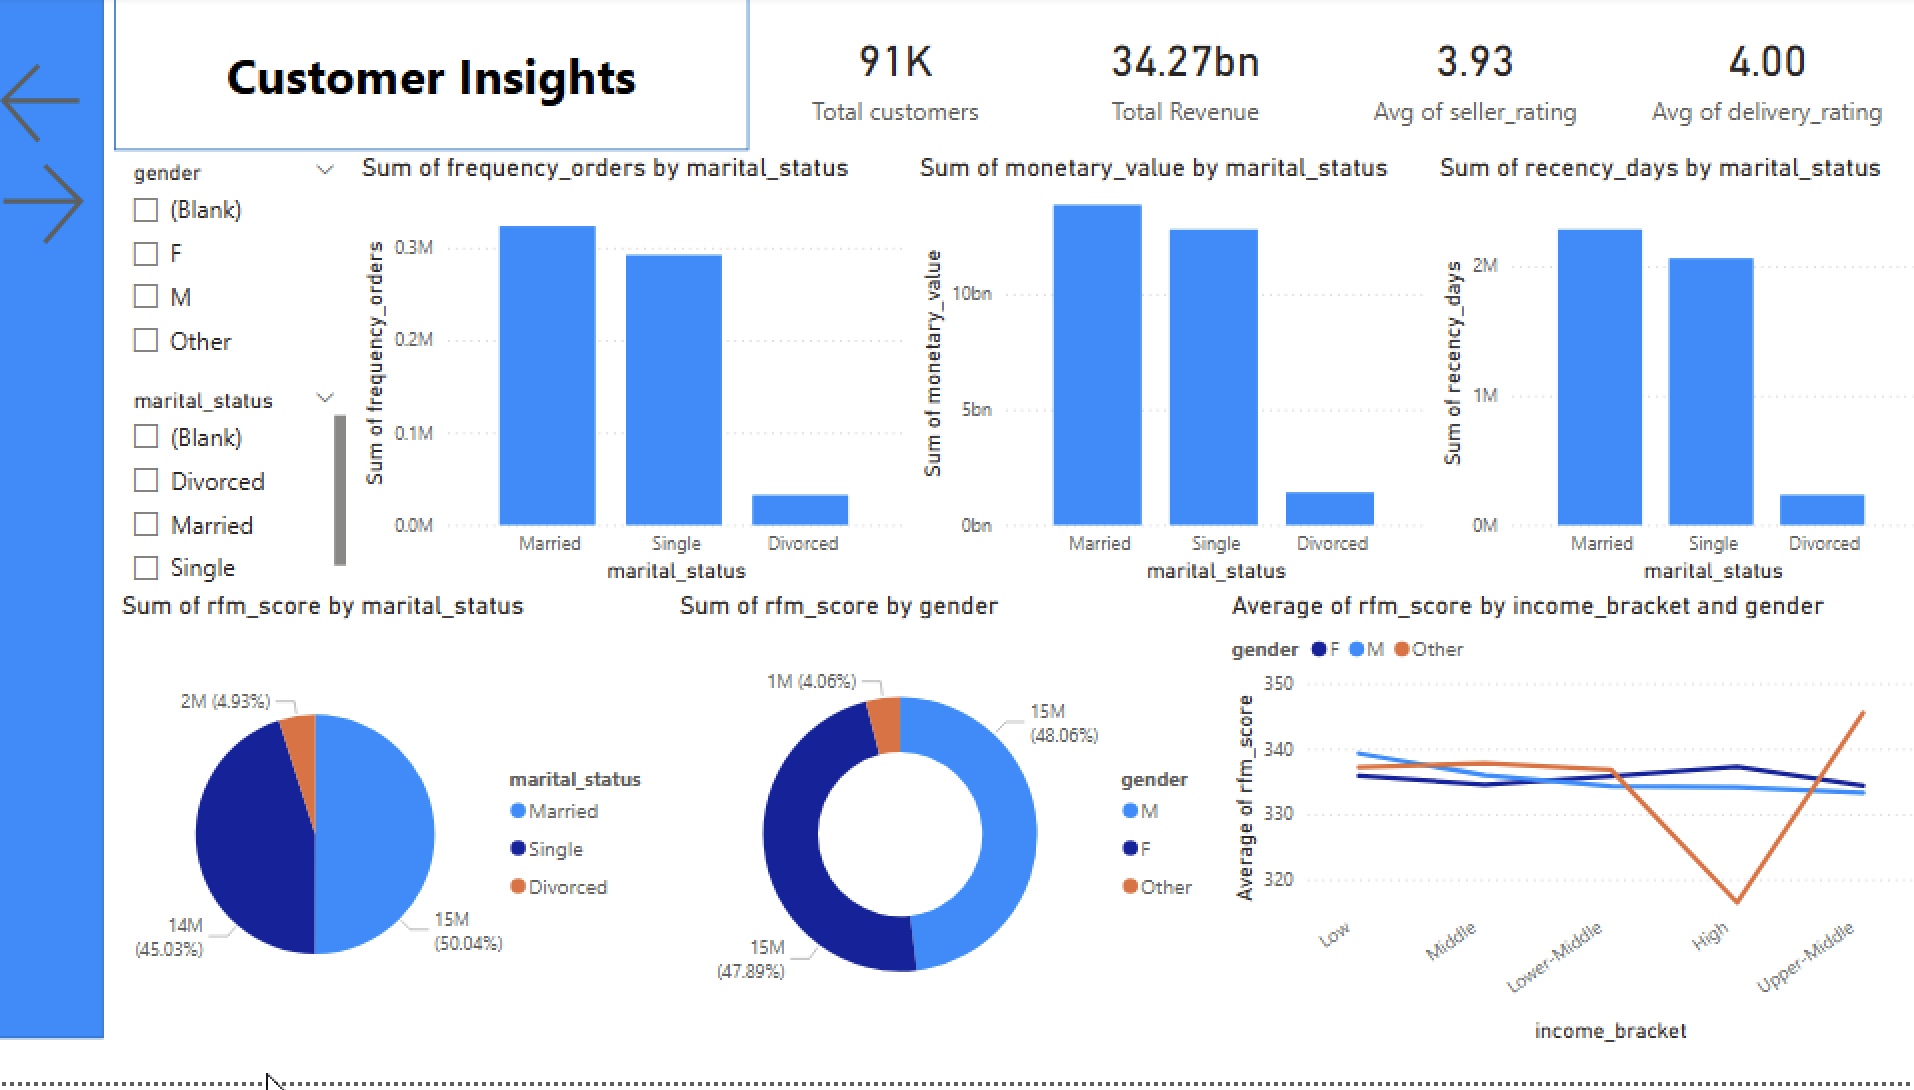

The page's visual inventory and layout, read from the dashboard file:
{"tool":"powerbi","page":{"name":"Customers","canvas":[1280,720],"ordinal":0},"visuals":[{"type":"shape","title":"Customer Insights","box":[81.1,0,421.1,102.6],"z":0},{"type":"actionButton","box":[0.1,104.9,74.1,66.4],"z":0,"group":"g1"},{"type":"shape","box":[0,0,74.1,691.5],"z":1000},{"type":"actionButton","box":[0.2,38.1,73.8,65.4],"z":1000,"group":"g1"},{"type":"card","fields":{"Values":["Measuress.Total customers"]},"box":[502.2,0,192.9,102.6],"z":2000},{"type":"group","id":"g1","title":"Group 1","box":[0.1,38.1,74.1,133.2],"z":3000},{"type":"card","fields":{"Values":["Measuress.Total Revenue"]},"box":[695.1,0,192.9,102.6],"z":4000},{"type":"card","fields":{"Values":["Avg(FACT_ORDERS.seller_rating)"]},"box":[888,0,192.9,102.6],"z":5000},{"type":"card","fields":{"Values":["Avg(FACT_ORDERS.delivery_rating)"]},"box":[1081,0,192.9,102.6],"z":6000},{"type":"slicer","fields":{"Values":["DIM_CUSTOMER.marital_status"]},"box":[81.1,254.4,159,139.9],"z":7000},{"type":"slicer","fields":{"Values":["DIM_CUSTOMER.gender"]},"box":[81.1,103.4,159,151.1],"z":8000},{"type":"columnChart","fields":{"Y":["Sum(FACT_CUSTOMER_RFM.frequency_orders)"],"Category":["DIM_CUSTOMER.marital_status"]},"box":[240.1,103.8,369.9,290.4],"z":9000},{"type":"columnChart","fields":{"Y":["Sum(FACT_CUSTOMER_RFM.recency_days)"],"Category":["DIM_CUSTOMER.marital_status"]},"box":[955.5,103.8,324.5,290.4],"z":10000},{"type":"columnChart","fields":{"Y":["Sum(FACT_CUSTOMER_RFM.monetary_value)"],"Category":["DIM_CUSTOMER.marital_status"]},"box":[610,103.8,345.6,290.4],"z":11000},{"type":"pieChart","fields":{"Category":["DIM_CUSTOMER.marital_status"],"Y":["Sum(FACT_CUSTOMER_RFM.rfm_score)"]},"box":[81.1,394.2,369.9,305],"z":12000},{"type":"donutChart","fields":{"Category":["DIM_CUSTOMER.gender"],"Y":["Sum(FACT_CUSTOMER_RFM.rfm_score)"]},"box":[451,394.2,366.6,305],"z":13000},{"type":"lineChart","fields":{"Category":["DIM_CUSTOMER.income_bracket"],"Y":["Avg(FACT_CUSTOMER_RFM.rfm_score)"],"Series":["DIM_CUSTOMER.gender"]},"box":[817.6,394.2,462.4,305],"z":14000}]}

Visuals, with their boxes on the page's 1280x720 design canvas (x1, y1, x2, y2). These are canvas units, not pixel positions in the 1914x1090 screenshot, which may show the page scaled, cropped or inside an application window:
"Customer Insights" shape: {"left": 81, "top": 0, "right": 502, "bottom": 103}
actionButton: {"left": 0, "top": 105, "right": 74, "bottom": 171}
shape: {"left": 0, "top": 0, "right": 74, "bottom": 692}
actionButton: {"left": 0, "top": 38, "right": 74, "bottom": 104}
card - Measuress.Total customers: {"left": 502, "top": 0, "right": 695, "bottom": 103}
"Group 1" group: {"left": 0, "top": 38, "right": 74, "bottom": 171}
card - Measuress.Total Revenue: {"left": 695, "top": 0, "right": 888, "bottom": 103}
card - Avg(FACT_ORDERS.seller_rating): {"left": 888, "top": 0, "right": 1081, "bottom": 103}
card - Avg(FACT_ORDERS.delivery_rating): {"left": 1081, "top": 0, "right": 1274, "bottom": 103}
slicer - DIM_CUSTOMER.marital_status: {"left": 81, "top": 254, "right": 240, "bottom": 394}
slicer - DIM_CUSTOMER.gender: {"left": 81, "top": 103, "right": 240, "bottom": 254}
columnChart - Sum(FACT_CUSTOMER_RFM.frequency_orders) x DIM_CUSTOMER.marital_status: {"left": 240, "top": 104, "right": 610, "bottom": 394}
columnChart - Sum(FACT_CUSTOMER_RFM.recency_days) x DIM_CUSTOMER.marital_status: {"left": 956, "top": 104, "right": 1280, "bottom": 394}
columnChart - Sum(FACT_CUSTOMER_RFM.monetary_value) x DIM_CUSTOMER.marital_status: {"left": 610, "top": 104, "right": 956, "bottom": 394}
pieChart - DIM_CUSTOMER.marital_status x Sum(FACT_CUSTOMER_RFM.rfm_score): {"left": 81, "top": 394, "right": 451, "bottom": 699}
donutChart - DIM_CUSTOMER.gender x Sum(FACT_CUSTOMER_RFM.rfm_score): {"left": 451, "top": 394, "right": 818, "bottom": 699}
lineChart - DIM_CUSTOMER.income_bracket x Avg(FACT_CUSTOMER_RFM.rfm_score): {"left": 818, "top": 394, "right": 1280, "bottom": 699}
